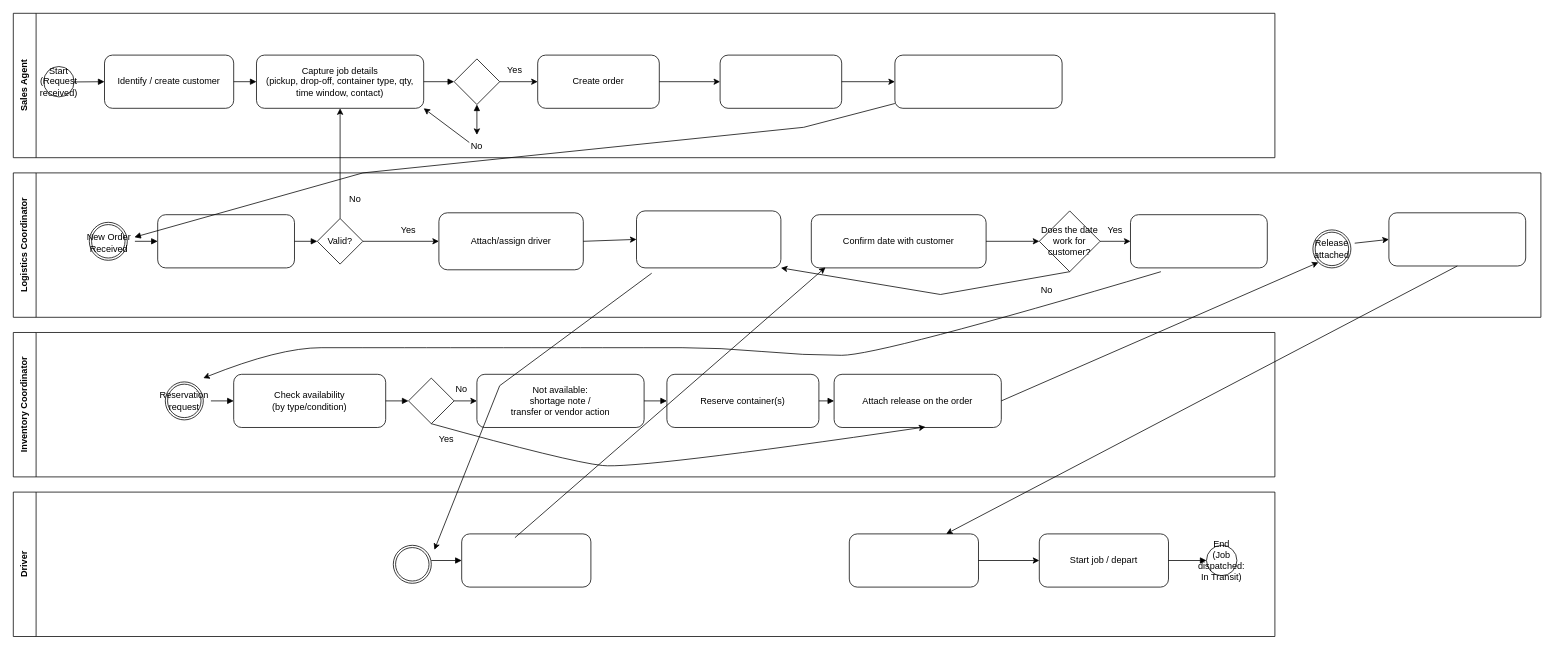
This 1554x650 diagram has some shape labels left out. The centre of each missing label's shape, as x and y in pixels:
"Ask driver for a date" goes at point 708,239.
"Available?" goes at point 431,400.
"Dispatch received" goes at point 412,564.
"Give date for delivery to coordinator" goes at point 526,560.
"Info complete?" goes at point 476,81.
"Receive release" goes at point 913,560.
"Send order to zone (Logistics Coordinator)" goes at point 978,81.
"Send release to the driver" goes at point 1457,239.
"Set the date on the system" goes at point 1198,241.
"Sign/Pay Order" goes at point 780,81.
"Validate order (address, date, zone, container type)" goes at point 225,241.
